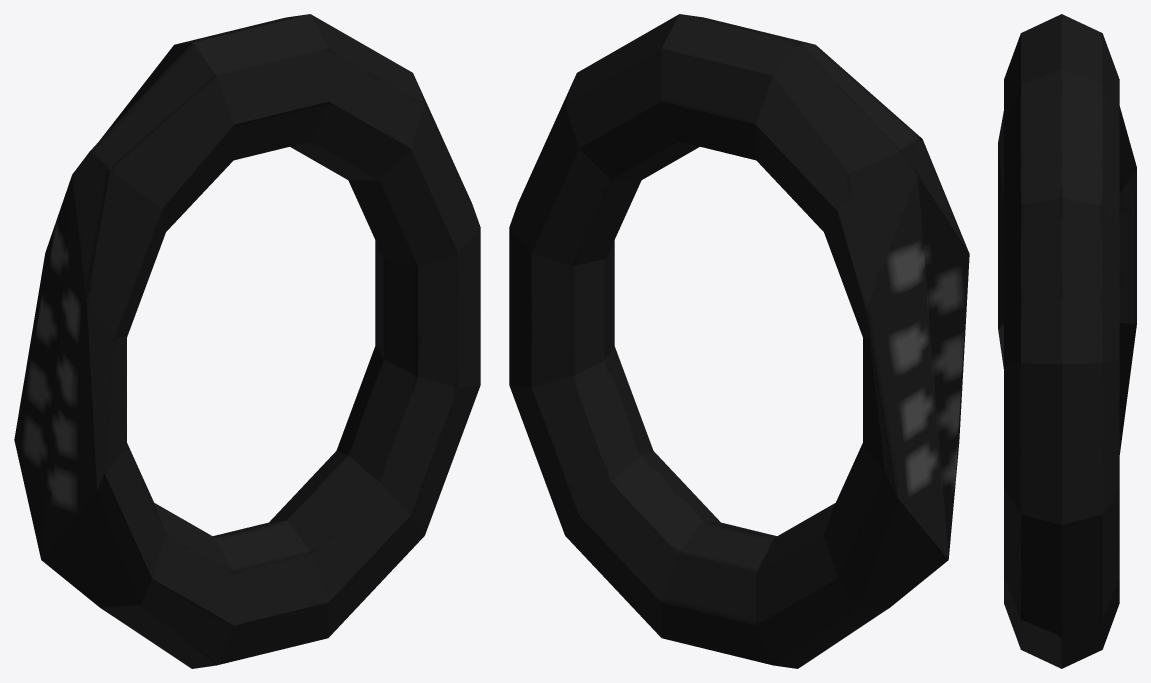
File: remote_bracelet.obj
The picture shows the model from 3 angles, left to right: view 1: azimuth 30°, elevation 25°; view 2: azimuth 150°, elevation 25°; view 3: azimuth 270°, elevation 25°; orthographic projection. The views are drawn at different scales.
Visible parts, largest first — view 1: torus; view 2: torus; view 3: torus.
Part boxes in pixels (x1,y1,x2,y2): torus: [14, 14, 480, 668]; torus: [509, 14, 969, 668]; torus: [998, 14, 1136, 668].
Size of the model in its own units: 2.61 by 3.62 by 0.7607.
